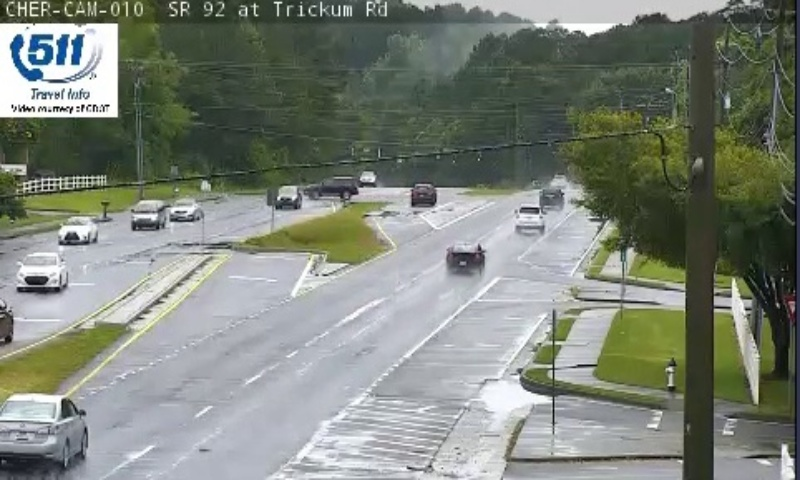car: (1, 393, 86, 460), (446, 243, 484, 272), (514, 203, 544, 230)
